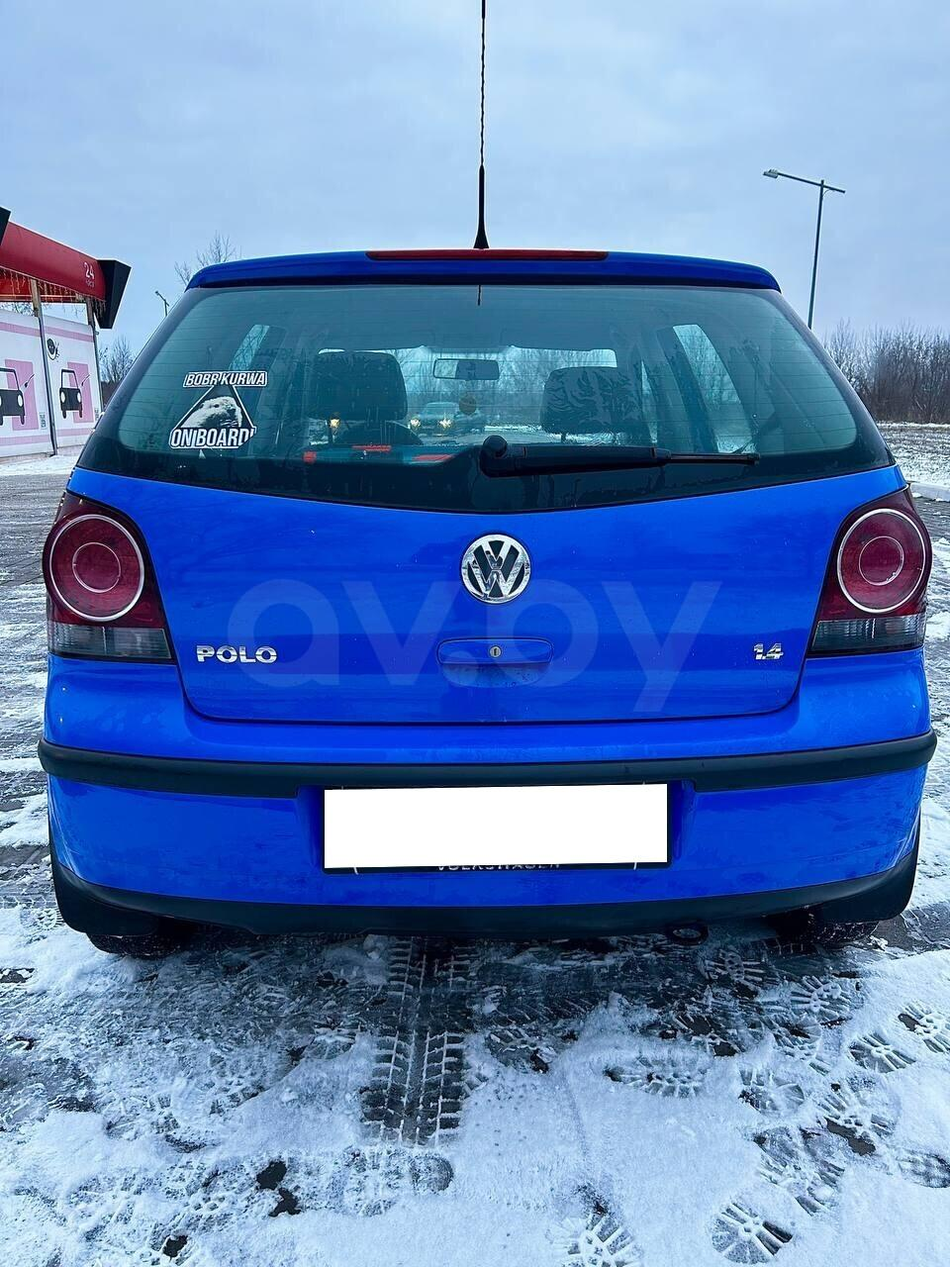Polo_2005-2009: (37, 242, 949, 955)
